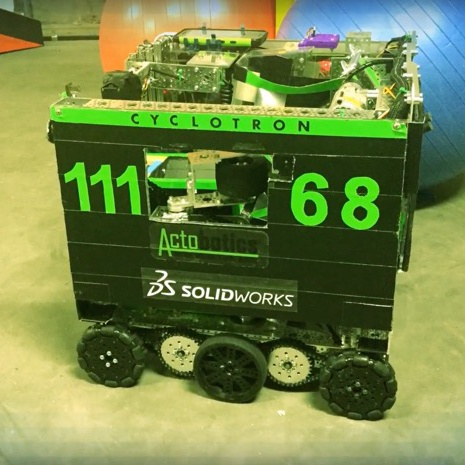robot: (41, 21, 438, 425)
yogaball: (280, 2, 465, 196), (92, 0, 274, 52)
